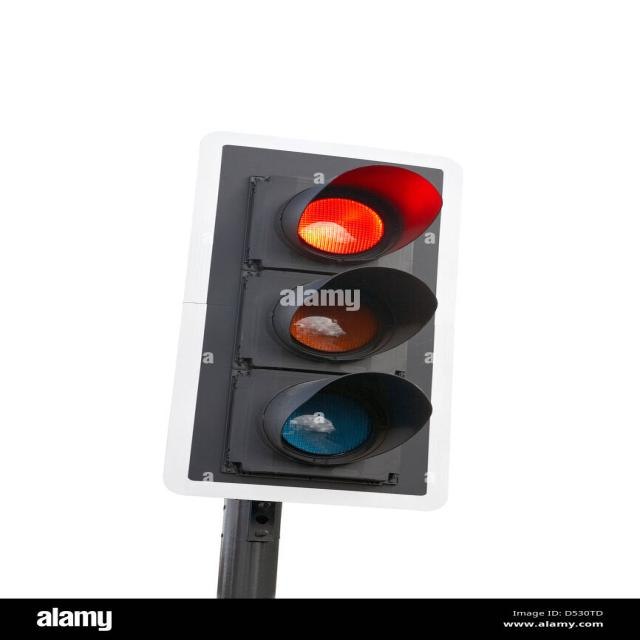red: (251, 176, 436, 273)
